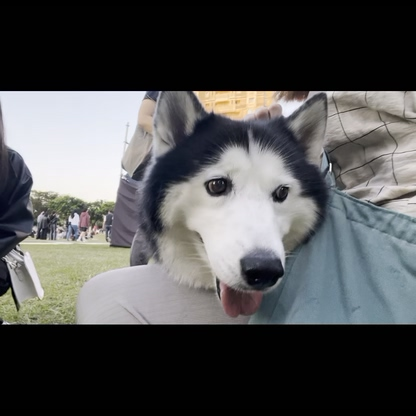husky: (126, 92, 337, 319)
